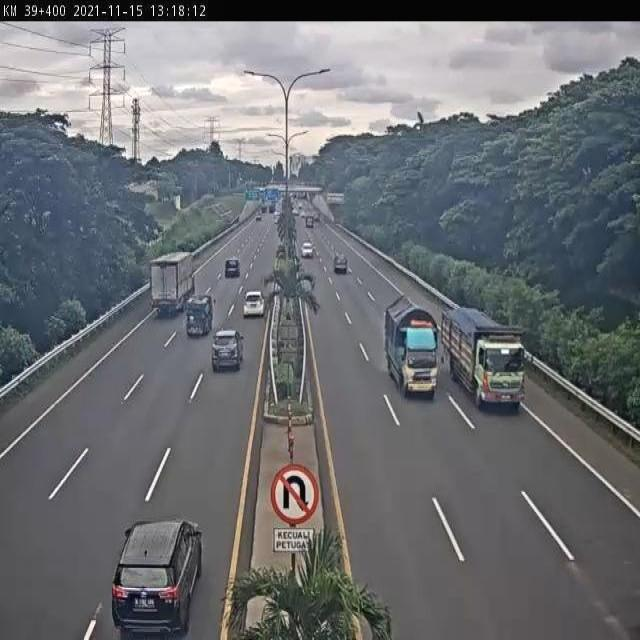Car: (110, 517, 202, 638), (211, 328, 245, 372), (242, 289, 266, 317), (333, 254, 348, 274), (225, 258, 240, 278), (301, 242, 313, 258), (306, 216, 314, 228), (292, 206, 300, 216), (274, 213, 280, 223), (314, 215, 320, 225), (261, 205, 267, 214), (269, 204, 275, 213), (256, 214, 262, 221)
Truck: (442, 302, 524, 410), (383, 296, 445, 405), (149, 252, 195, 320), (179, 282, 219, 338)
